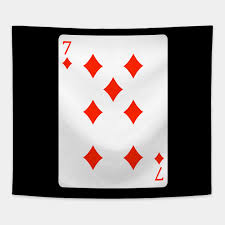seven of diamonds: (59, 34, 167, 187)
